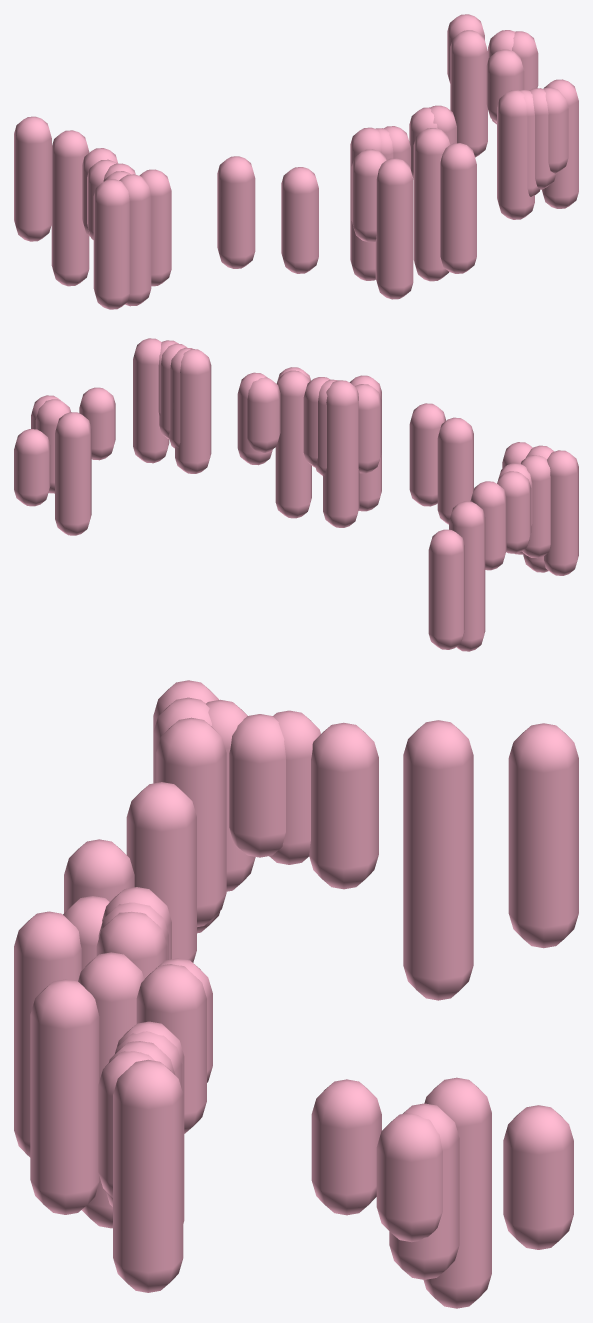
The model's file is DECO_06.glb.
The picture shows the model from 3 angles, top to bottom: view 1: azimuth 30°, elevation 25°; view 2: azimuth 150°, elevation 25°; view 3: azimuth 270°, elevation 25°; orthographic projection. The views are drawn at different scales.
Parts seen in each view (by area): view 1: DECO_06; view 2: DECO_06; view 3: DECO_06.
Boxes of the visible parts, x1=… form: DECO_06: x1=14, y1=14, x2=578, y2=309; DECO_06: x1=14, y1=338, x2=578, y2=651; DECO_06: x1=14, y1=680, x2=578, y2=1308.
Size of the model in its own units: 1 by 0.3127 by 0.542.
